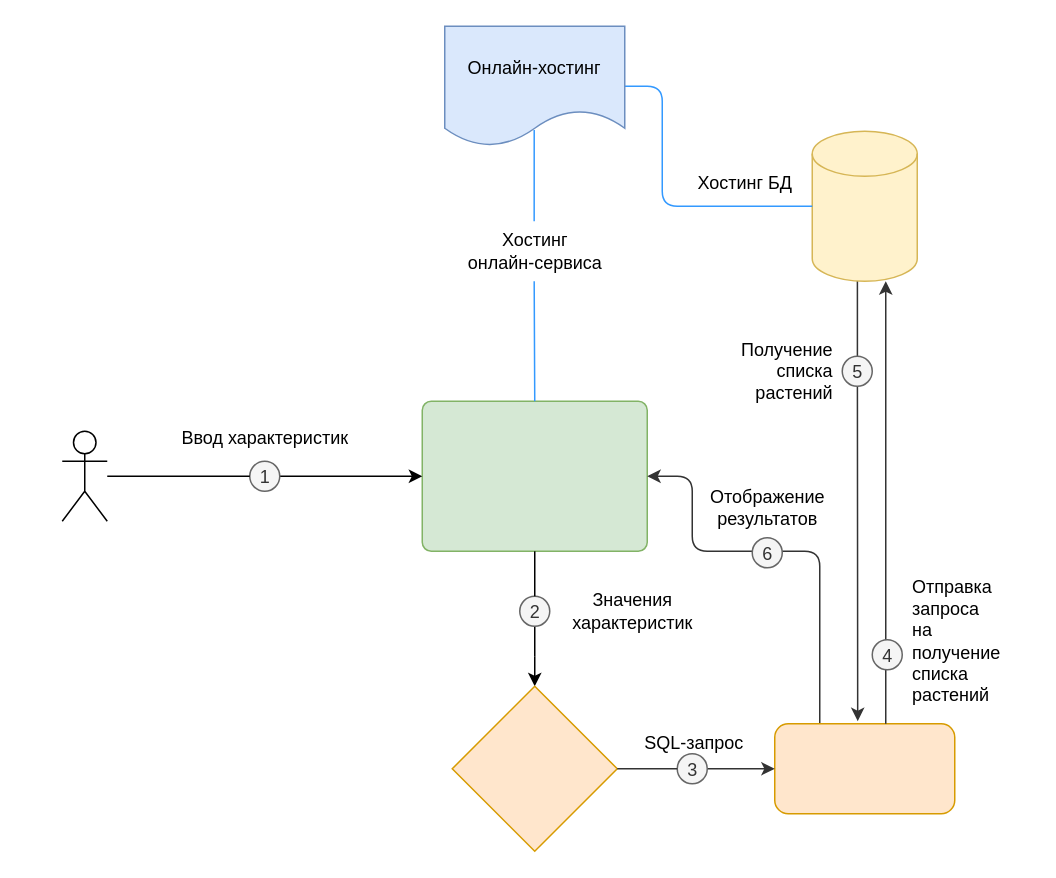
Image size: 1056x878. Some labels were removed from this diagram. Each missing label, with the box of its shape:
Алгоритм подбора растений: (451, 685, 617, 851)
БД Растений: (811, 130, 917, 281)
Модуль запросов к БД: (773, 722, 955, 814)
Пользователь: (61, 430, 107, 521)
Пользовательский интерфейс сервиса: (421, 400, 647, 551)
